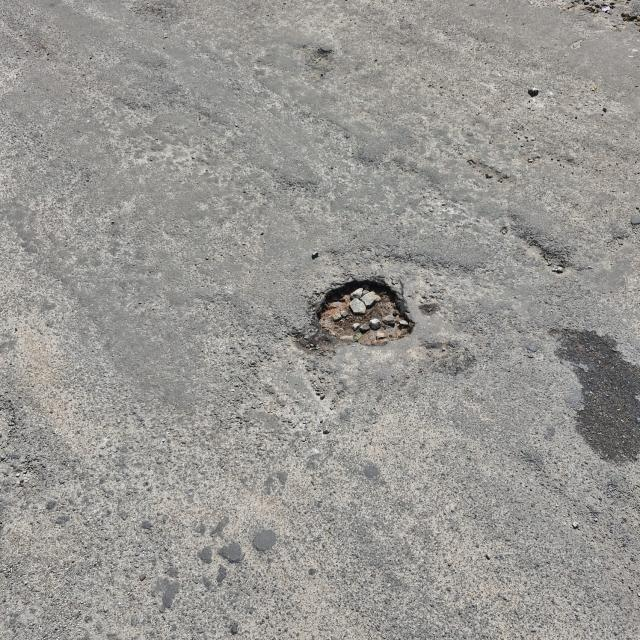pothole: (304, 248, 429, 372), (505, 223, 569, 285), (531, 2, 640, 35), (414, 338, 480, 378), (461, 150, 515, 197), (301, 46, 360, 71)
